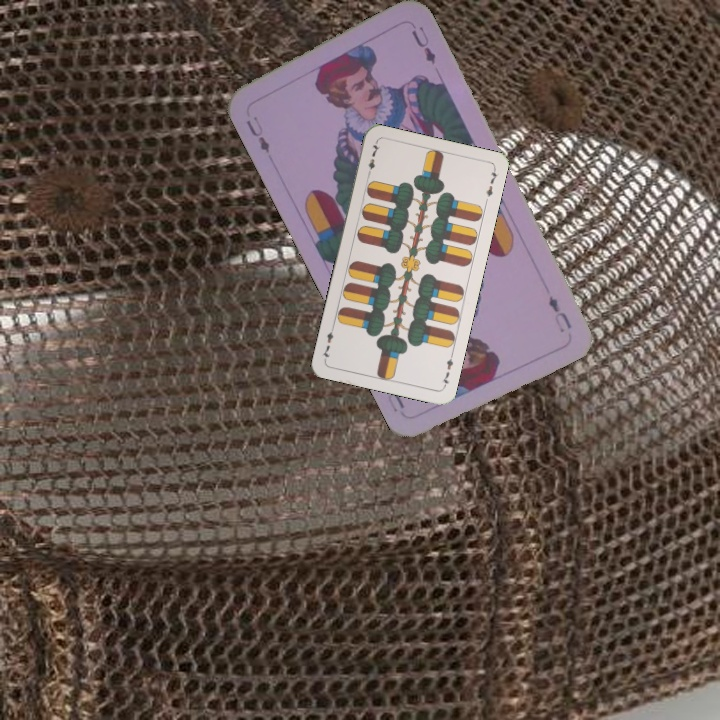E7: (364, 139, 382, 179), (438, 350, 456, 390)
EU: (242, 112, 273, 156), (544, 291, 574, 335)
